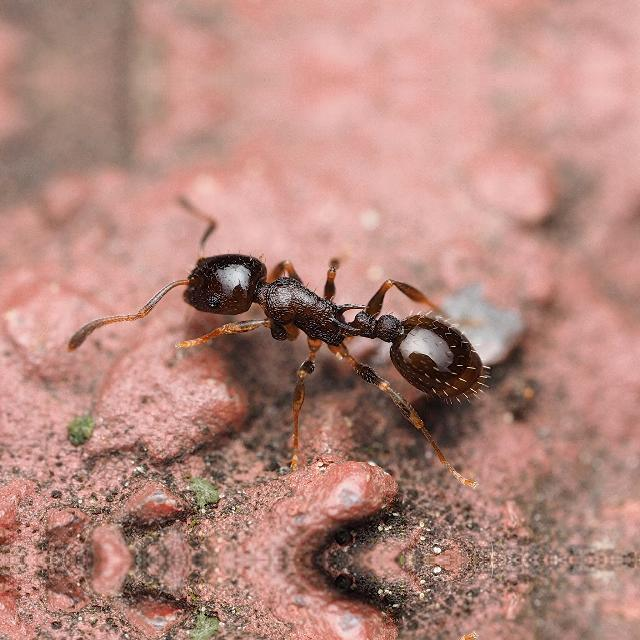Temnothorax: (142, 188, 530, 432)
